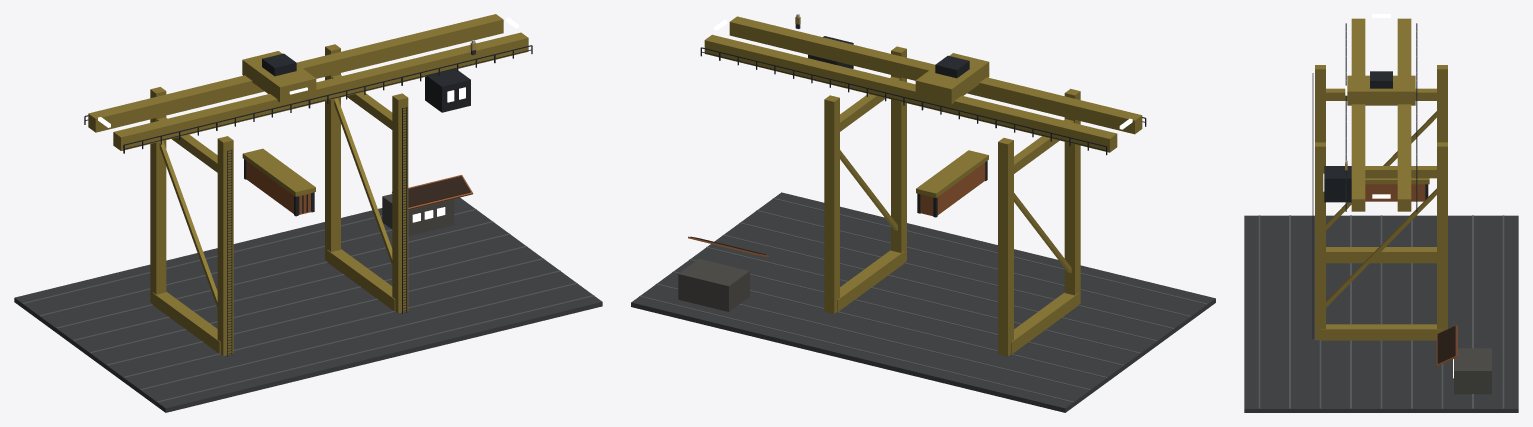
Rendered from lg_crane.glb.
3 views of the same model, side by side, from view 1: azimuth 30°, elevation 25°; view 2: azimuth 150°, elevation 25°; view 3: azimuth 270°, elevation 25° (orthographic). The views are drawn at different scales.
Parts seen in each view (by area): view 1: lg_crane_body, lg_crane_hoist_body, lg_crane_trolley_body, lg_crane_lit_emit; view 2: lg_crane_body, lg_crane_hoist_body, lg_crane_trolley_body; view 3: lg_crane_body, lg_crane_trolley_body, lg_crane_hoist_body.
Part boxes in pixels (<box>): lg_crane_body: <box>14,14,602,412</box>; lg_crane_hoist_body: <box>242,148,315,216</box>; lg_crane_trolley_body: <box>242,51,316,102</box>; lg_crane_lit_emit: <box>98,17,518,222</box>; lg_crane_body: <box>631,14,1215,412</box>; lg_crane_hoist_body: <box>916,150,988,217</box>; lg_crane_trolley_body: <box>915,53,989,104</box>; lg_crane_body: <box>1244,18,1518,412</box>; lg_crane_trolley_body: <box>1347,71,1415,105</box>; lg_crane_hoist_body: <box>1365,178,1429,201</box>.
Bounding box in the file's own units: 60 × 32.9 × 36.
